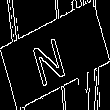N_N: (35, 24, 75, 86)
